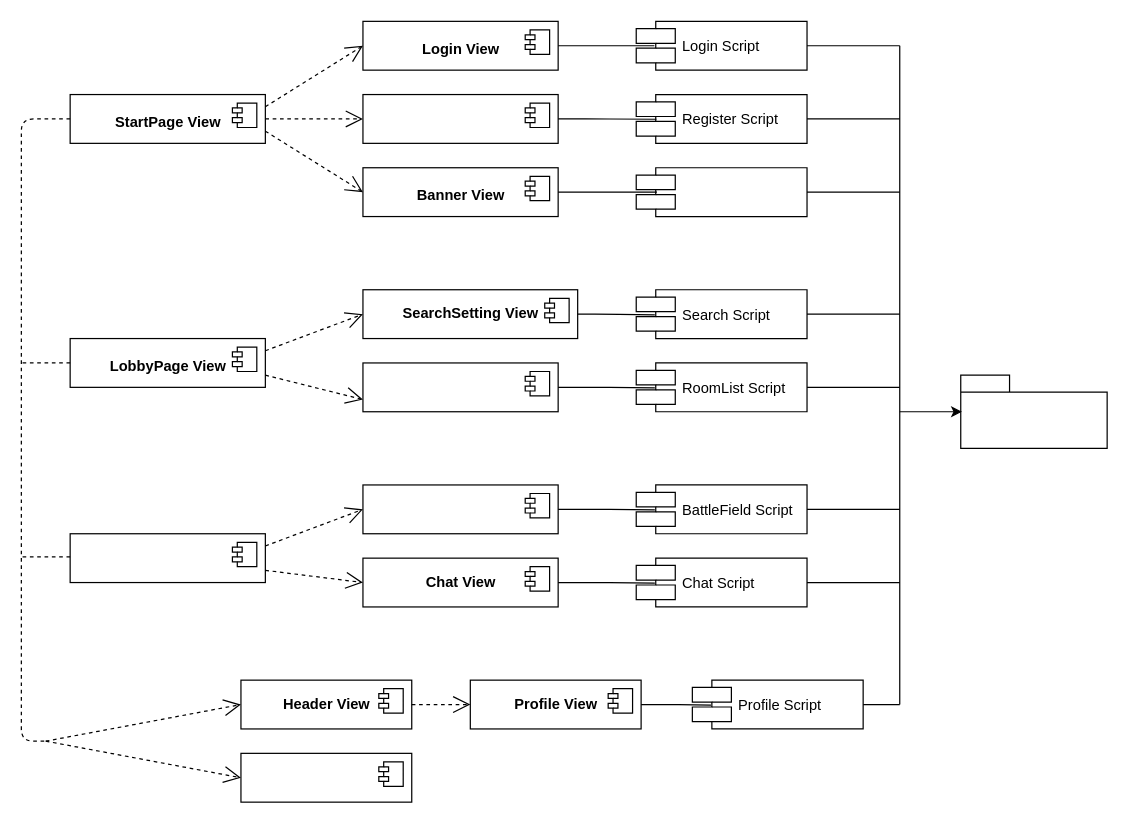
This 1129x824 diagram has some shape labels left out. Each missing label, with the centre of its shape:
"API Service" belongs at [1033,411].
"Banner Script" belongs at [721,192].
"BattleField View" belongs at [460,509].
"Footer View" belongs at [326,777].
"Register View" belongs at [460,118].
"RoomPage View" belongs at [167,558].
"RoomsList View" belongs at [460,387].
